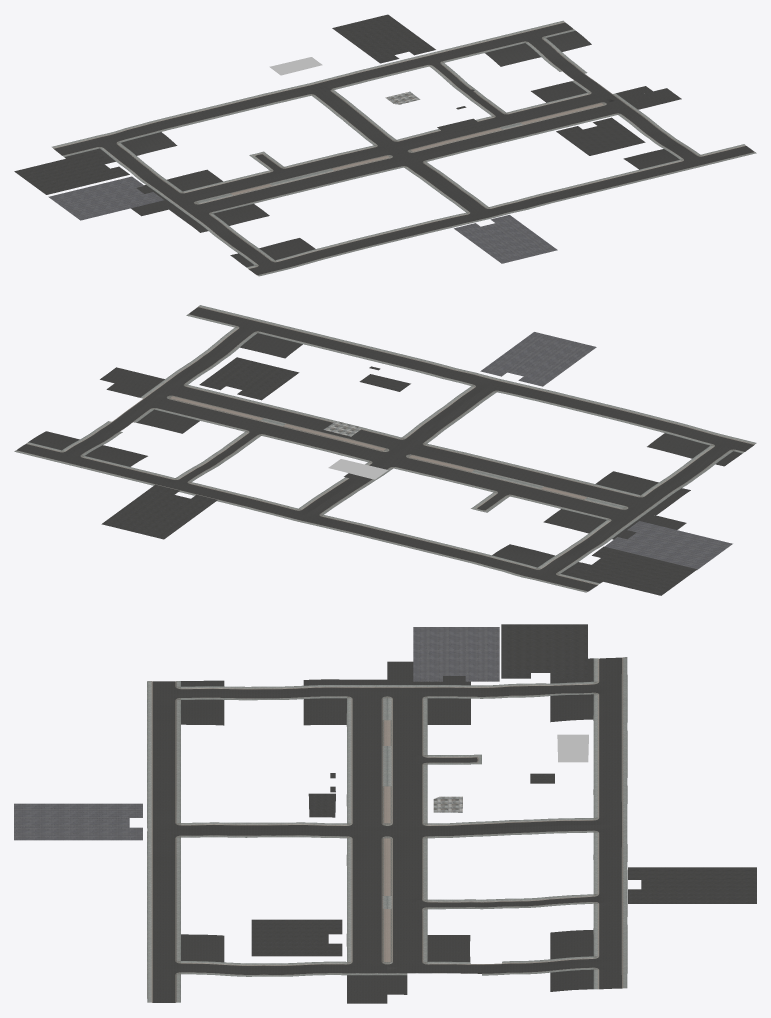
File: street_roads.gltf
The picture shows the model from 3 angles, top to bottom: view 1: azimuth 30°, elevation 25°; view 2: azimuth 150°, elevation 25°; view 3: azimuth 270°, elevation 25°; orthographic projection. The views are drawn at different scales.
Visible parts, largest first — view 1: street_roads; view 2: street_roads; view 3: street_roads.
Boxes of the visible parts, x1=… form: street_roads: x1=14, y1=14, x2=756, y2=276; street_roads: x1=14, y1=305, x2=756, y2=595; street_roads: x1=14, y1=624, x2=756, y2=1003.
Bounding box in the file's own units: 166 × 18.32 × 139.
